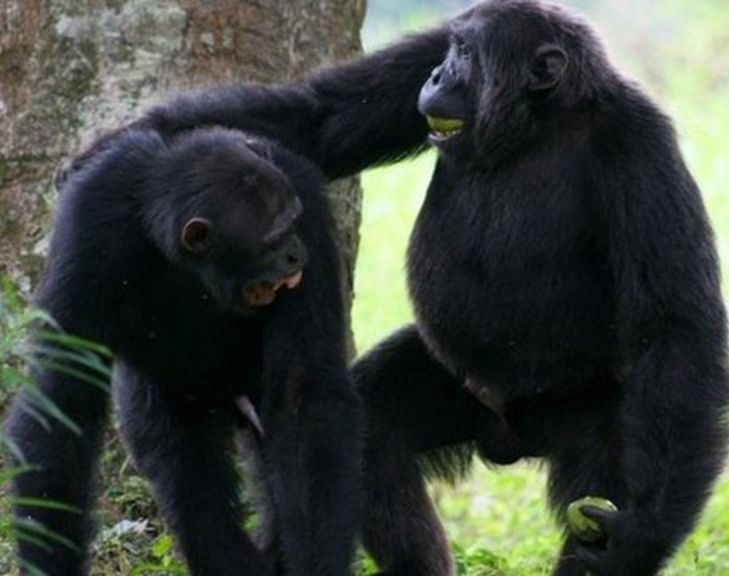Chimpanzee: (31, 111, 366, 566), (408, 3, 693, 521)
